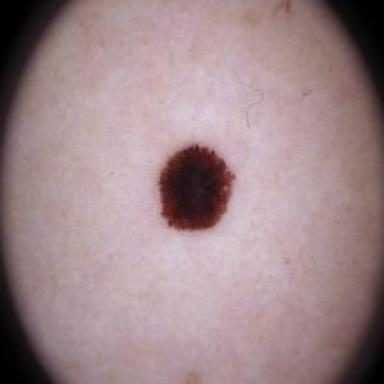Melanoma: (157, 144, 235, 233)
